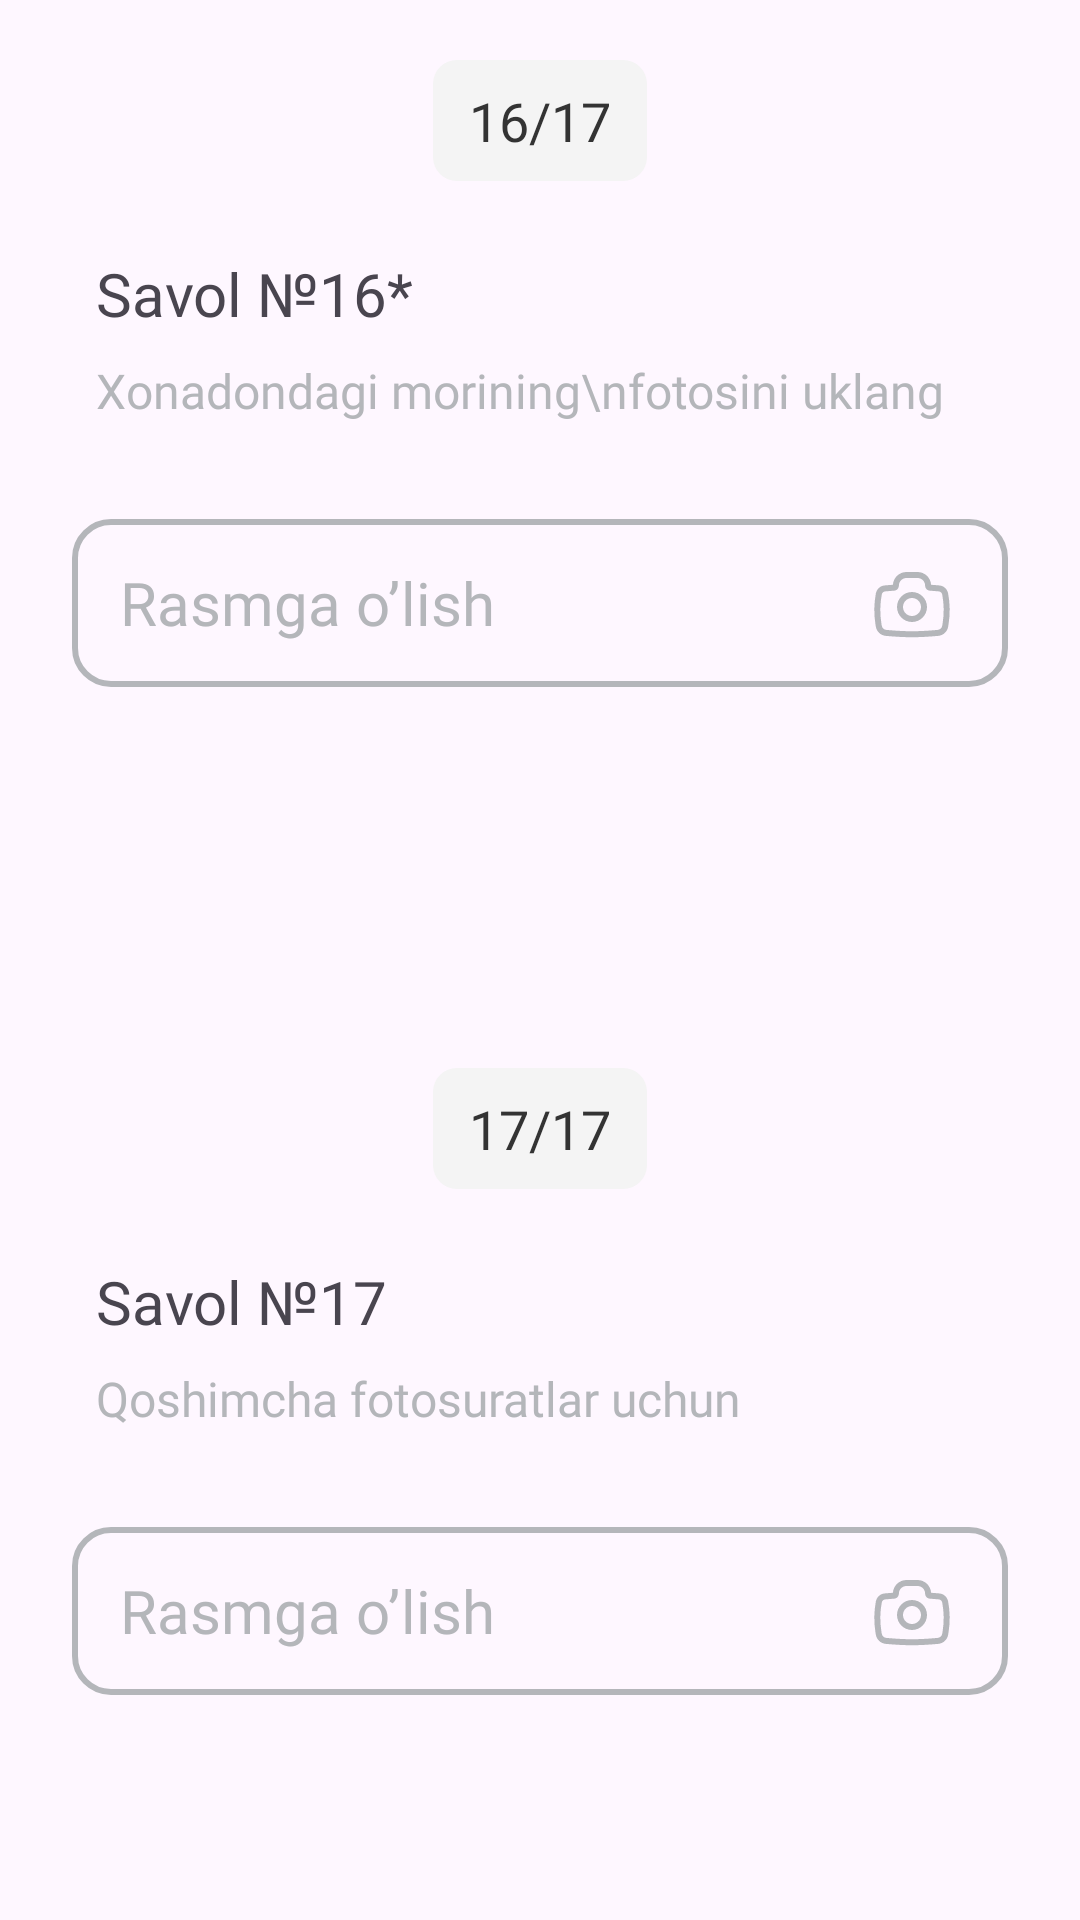

Screen size 1080×1920. Icon name, then its box in pixels as (left=x1, top=y1, right=x2, bottom=y2):
camera: (left=874, top=572, right=950, bottom=637), (left=874, top=1580, right=950, bottom=1645)
